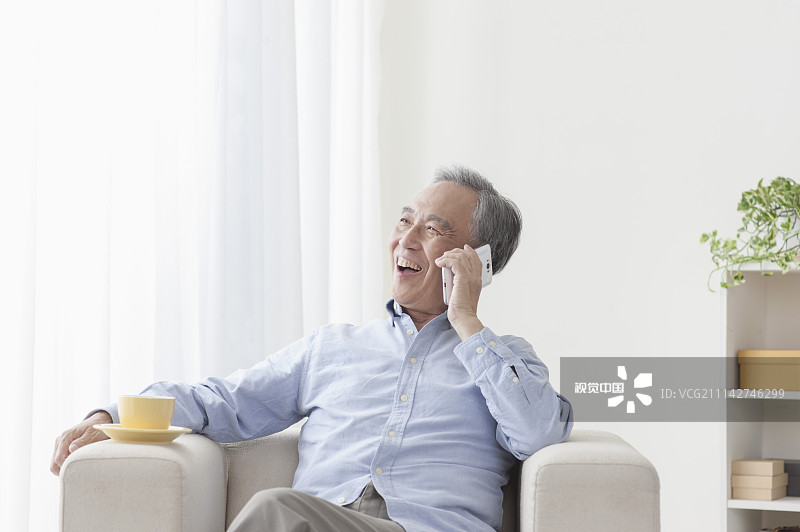calling: (427, 230, 521, 340)
